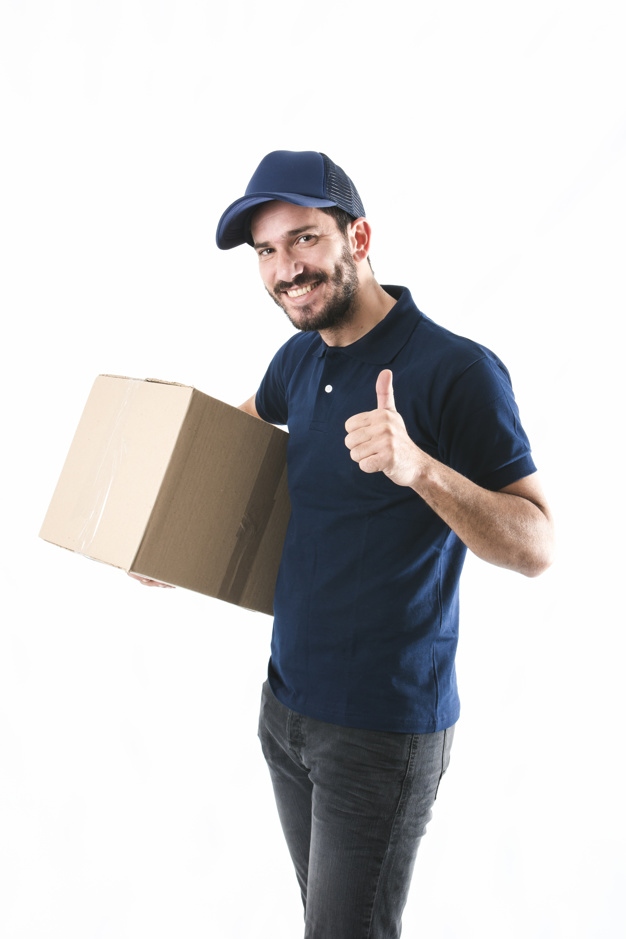thumbsup: (344, 368, 399, 473)
